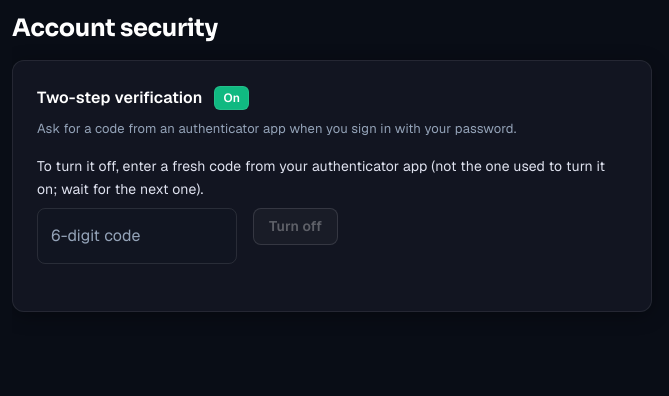
remaining Task 3 screens › turns off two-step verification after submitting a fresh code
The image size is (669, 396).
Type "654321" into the field labelled "6-digit code".
click(137, 236); type("654321")  # box [37,208,237,264]
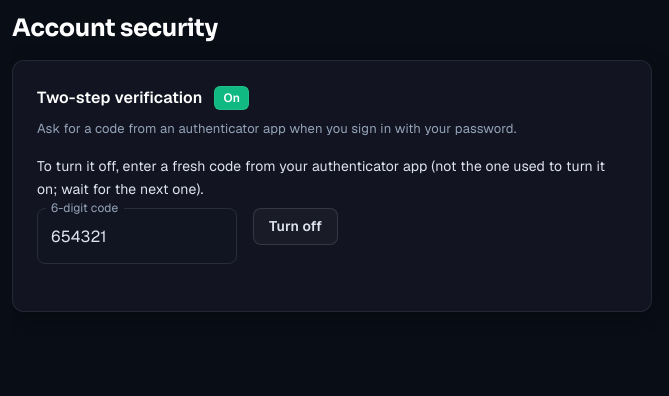
Click the button "Turn off".
click(296, 226)  # box [253,208,338,245]
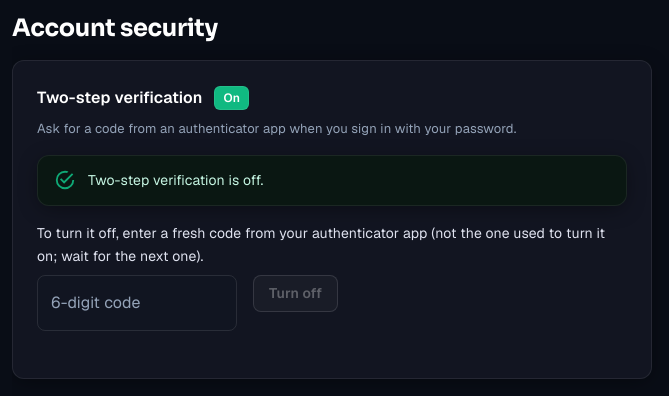
Expected: the text "Two-step verification is off." is shown, [88,171,264,189]
